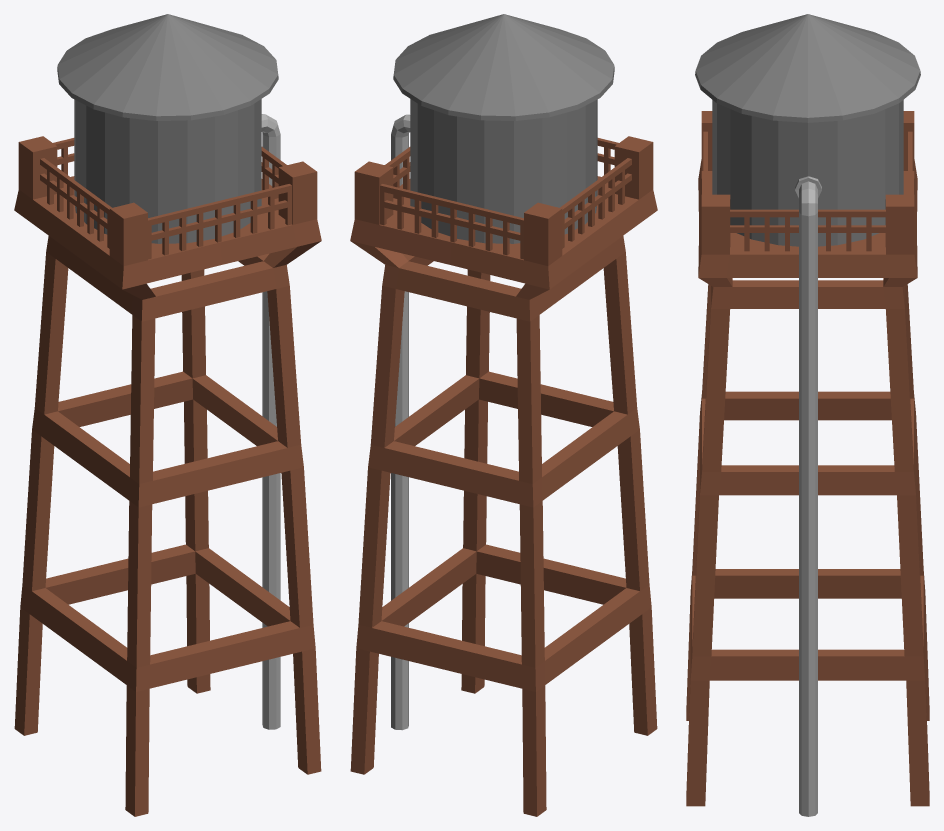
Rendered from Water Tower.glb.
The picture shows the model from 3 angles, left to right: view 1: azimuth 30°, elevation 25°; view 2: azimuth 150°, elevation 25°; view 3: azimuth 270°, elevation 25°; orthographic projection.
Visible parts, largest first — view 1: WaterTower; view 2: WaterTower; view 3: WaterTower.
Part boxes in pixels (x1=…): WaterTower: x1=14, y1=14, x2=321, y2=816; WaterTower: x1=350, y1=14, x2=657, y2=816; WaterTower: x1=686, y1=14, x2=929, y2=816.
Size of the model in its own units: 2.53 by 8.43 by 2.49.
